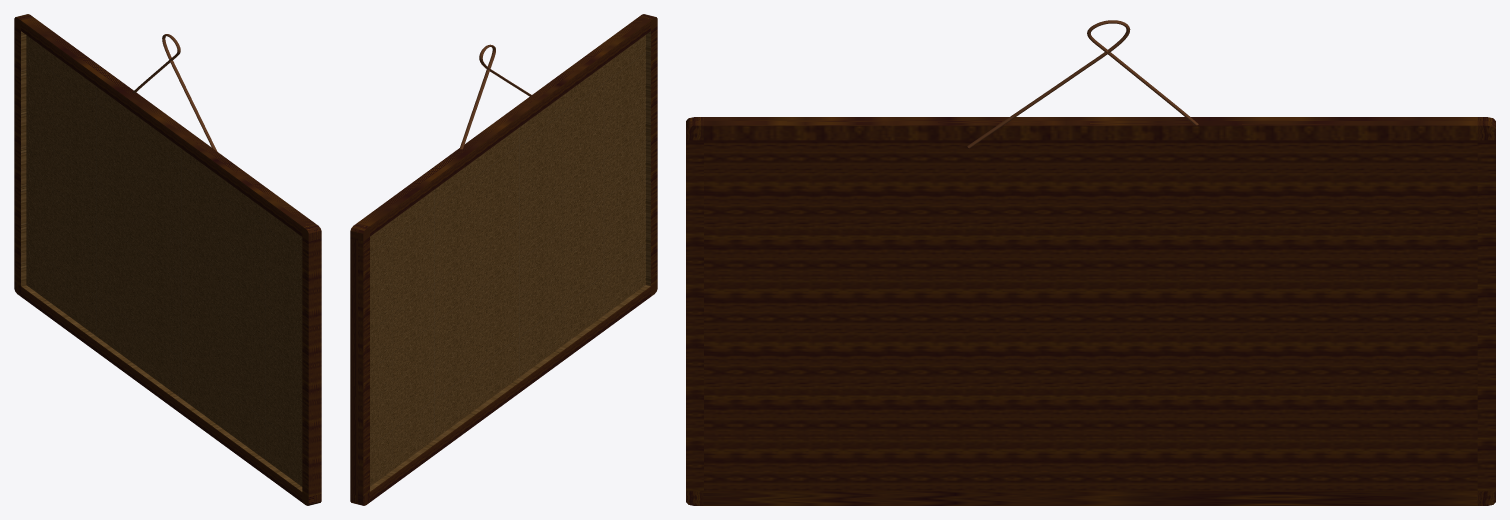
The model's file is Pinboard.fbx.
The picture shows the model from 3 angles, left to right: view 1: azimuth 30°, elevation 25°; view 2: azimuth 150°, elevation 25°; view 3: azimuth 270°, elevation 25°; orthographic projection. The views are drawn at different scales.
Visible parts, largest first — view 1: Pinboard, Rope; view 2: Pinboard, Rope; view 3: Pinboard, Rope.
Part boxes in pixels (x1,y1,x2,y2): Pinboard: [14, 14, 321, 505]; Rope: [132, 34, 217, 151]; Pinboard: [350, 14, 657, 505]; Rope: [459, 44, 531, 149]; Pinboard: [686, 117, 1495, 505]; Rope: [967, 20, 1198, 148].
Bounding box in the file's own units: 101 × 1224 × 1840.
2 materials, 1 textured.
